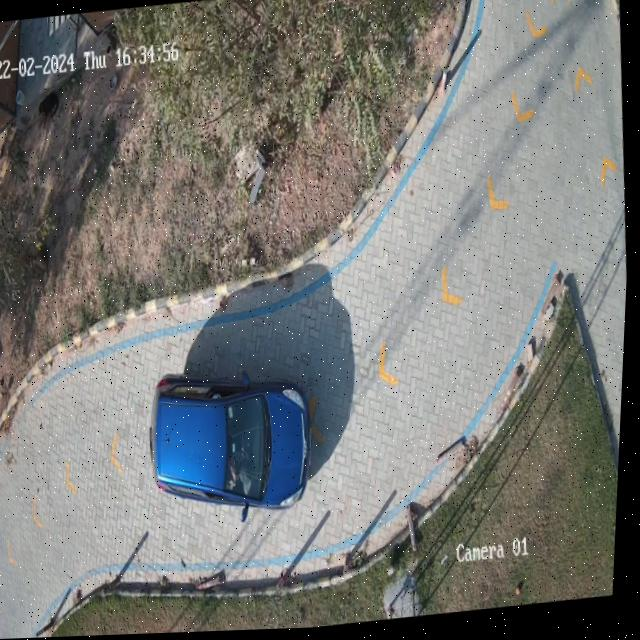car: (154, 376, 314, 522)
